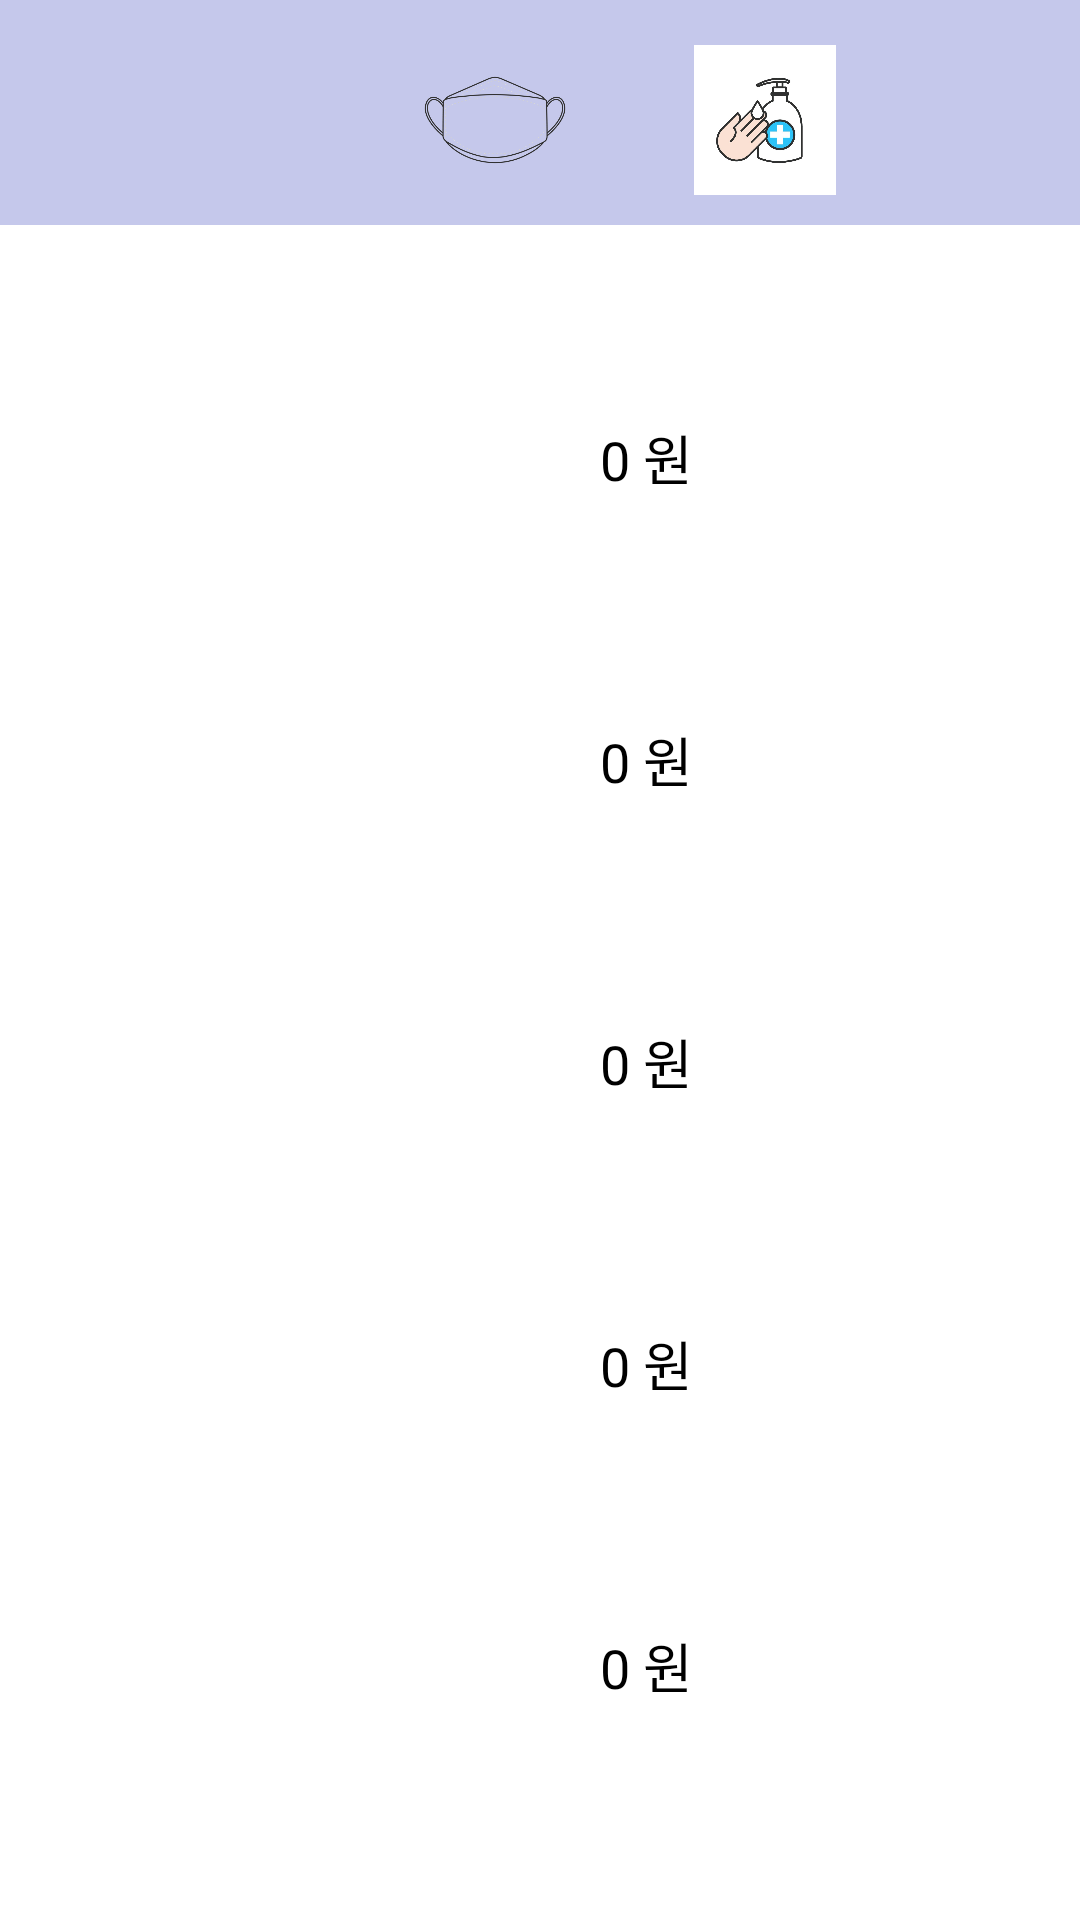

Where to tap for icons on this 1080*1920 app screen, as point (x, y):
hand wash: point (765, 120)
